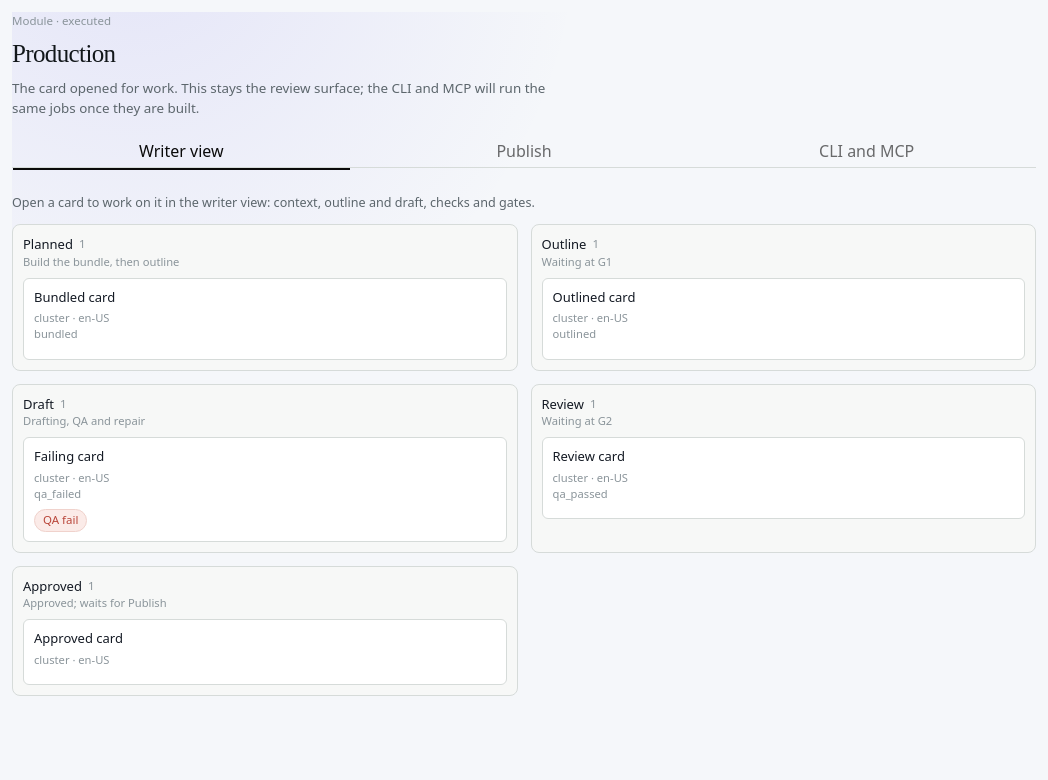
it: V3 Production module › maps CLI and MCP verbs to the UI without faking execution
The width and height of the screenshot is (1048, 780).
Expected: the element named "Production work queue" is shown, [12,224,1036,696]
Click the tab "CLI and MCP". click: (867, 152)
box: [697,136,1036,166]
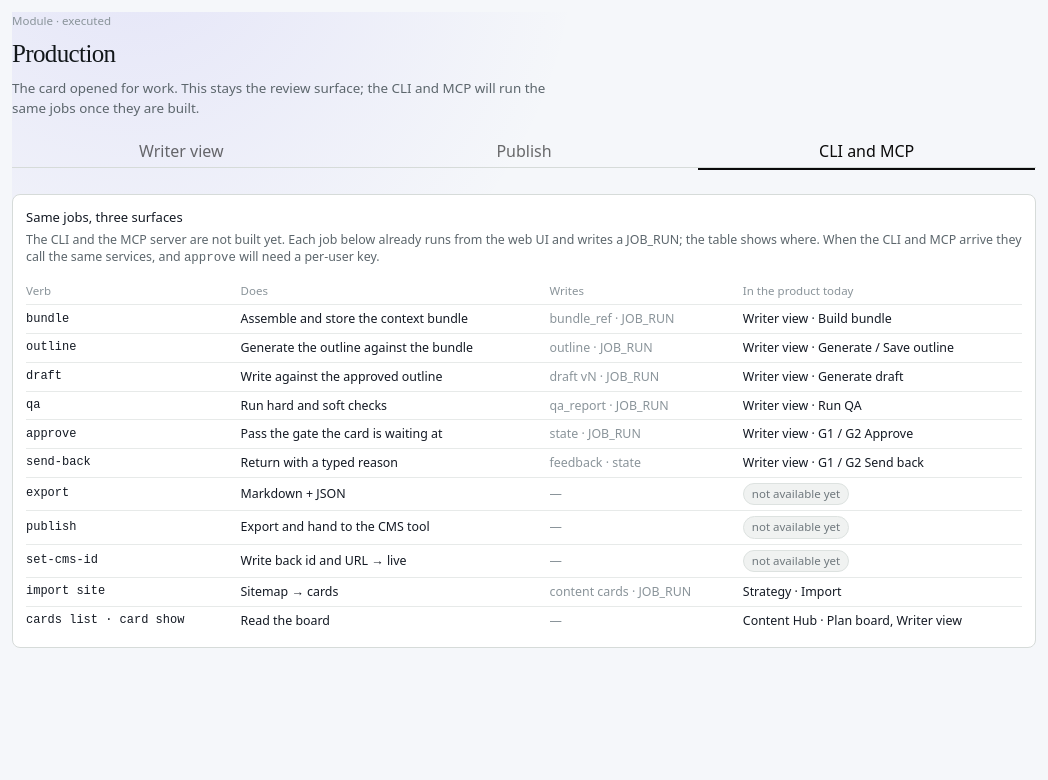
Expected: the text "The CLI and the MCP server are not built yet" is shown, [26,230,1022,265]
Expected: the cell "Writer view · Run QA" is shown, [743,391,1022,420]
Expected: the text "not available yet" in the row of "Markdown + JSON" is shown, [752,486,840,501]
